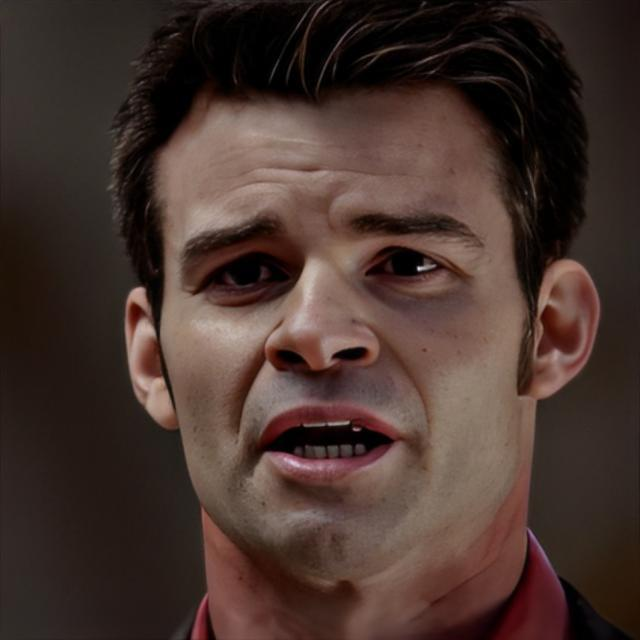sad: (154, 85, 518, 586)
